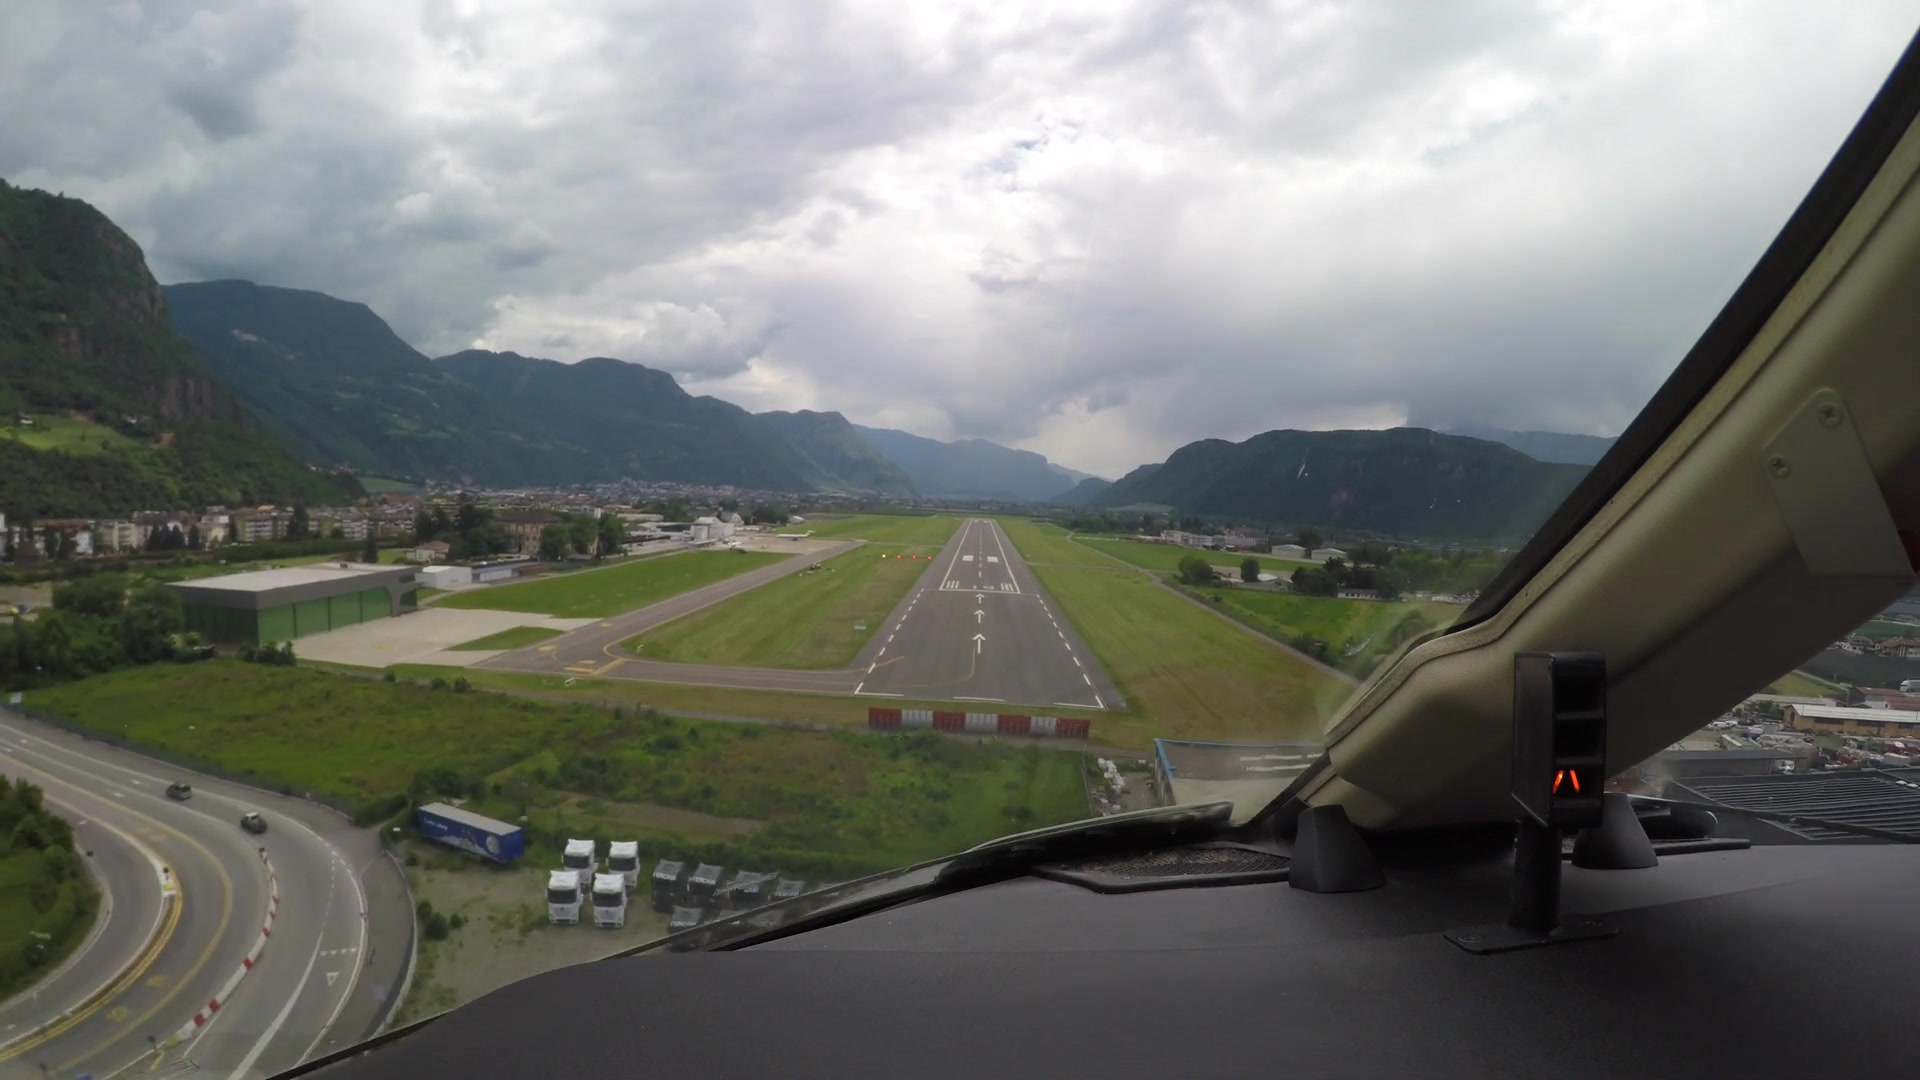entrance: (945, 579, 1014, 593)
runway: (843, 520, 1125, 711)
